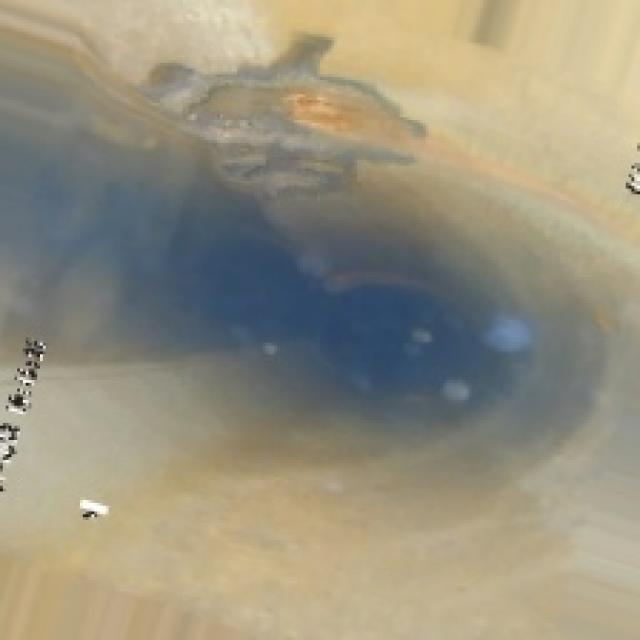pipe_surface_damage: (151, 46, 446, 200)
